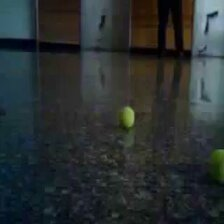tennis: (120, 106, 135, 129)
